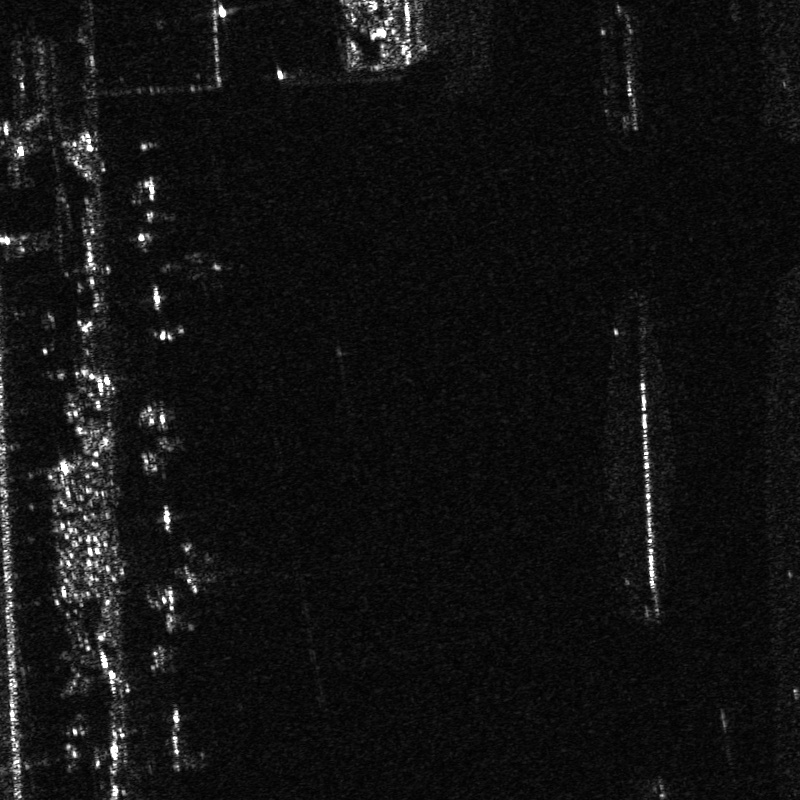Boeing737: (156, 247, 230, 289)
